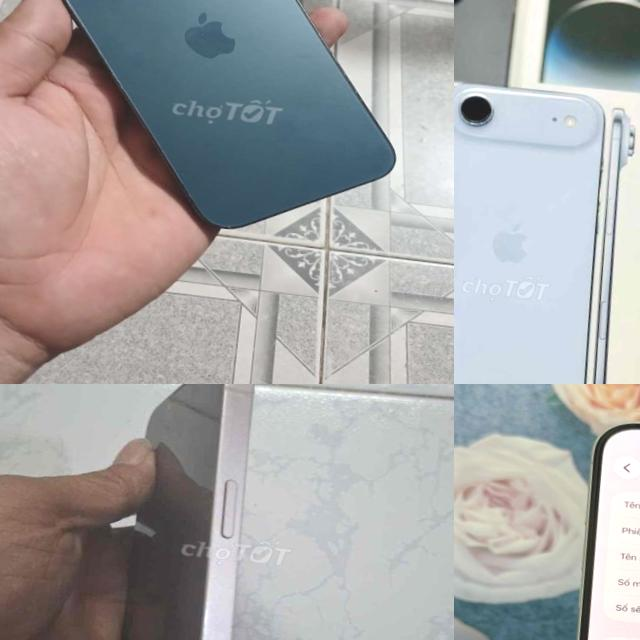gen_12_13: (0, 0, 427, 249), (90, 384, 310, 640)
gen_16: (539, 412, 640, 640)
gen_17: (454, 76, 623, 384)
